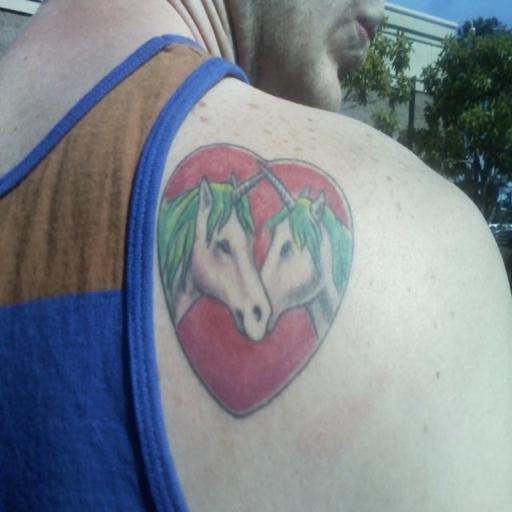horse: (154, 159, 272, 350), (258, 158, 352, 340)
